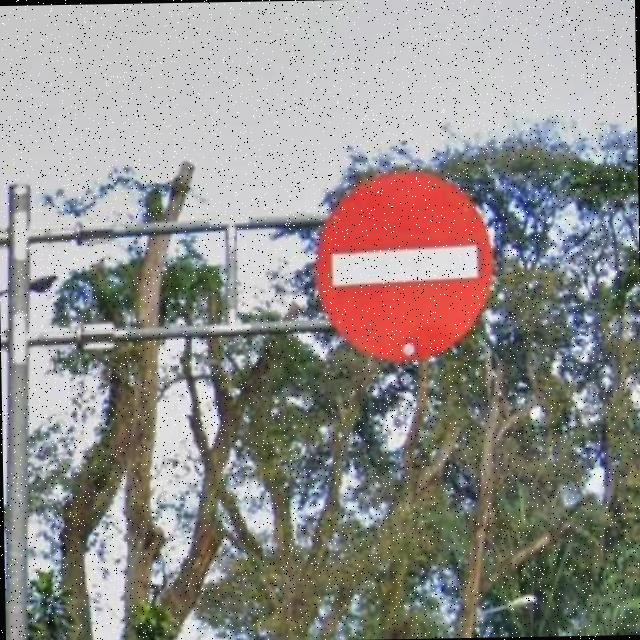Zakaz wjazdu: (314, 171, 492, 365)
